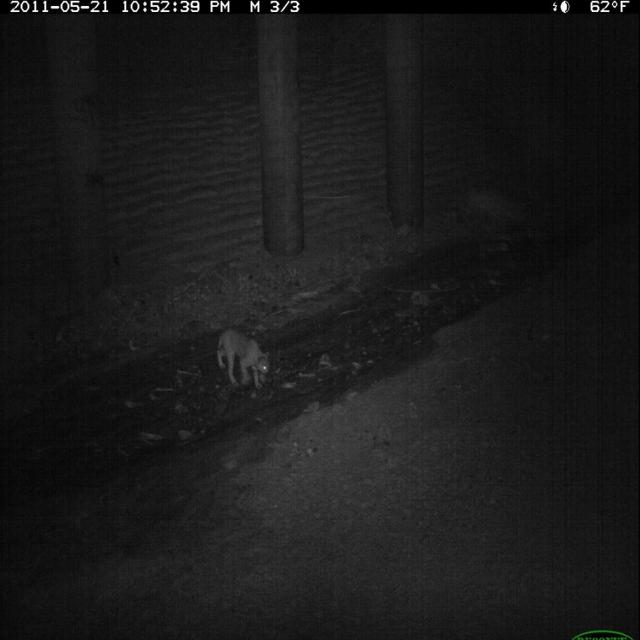bobcat: (215, 326, 273, 398)
